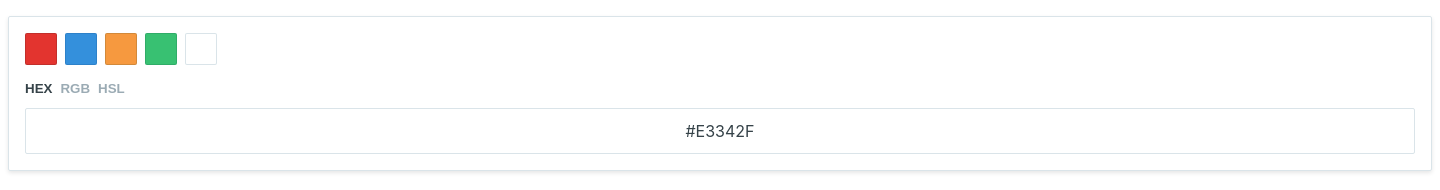
it: ColorPicker › Codigo color por modo › muestre el codigo del color correspondiente al modo cuando den clic
Click the button with class "modo-color-hsl". click: [111, 88]
box: [98,81,125,96]
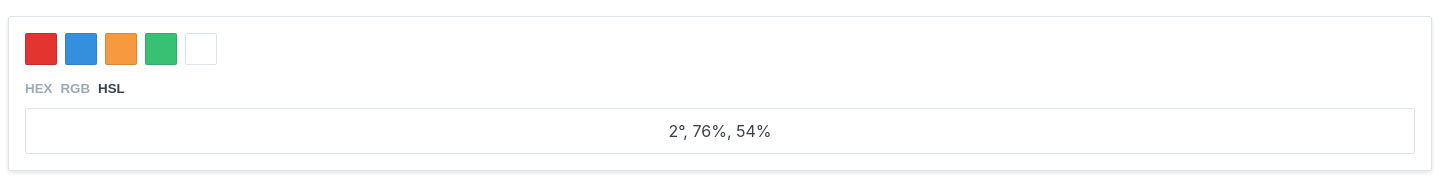
Expected: the text with class "codigo-color" reads "2°, 76%, 54%", [668,121,772,141]
